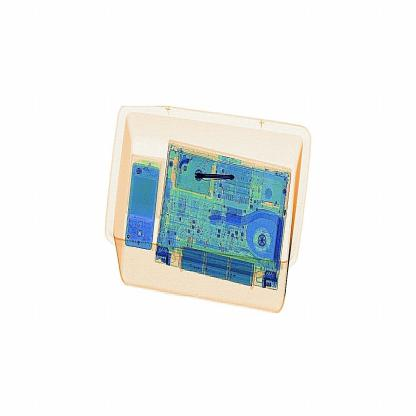knife: (181, 166, 238, 194)
